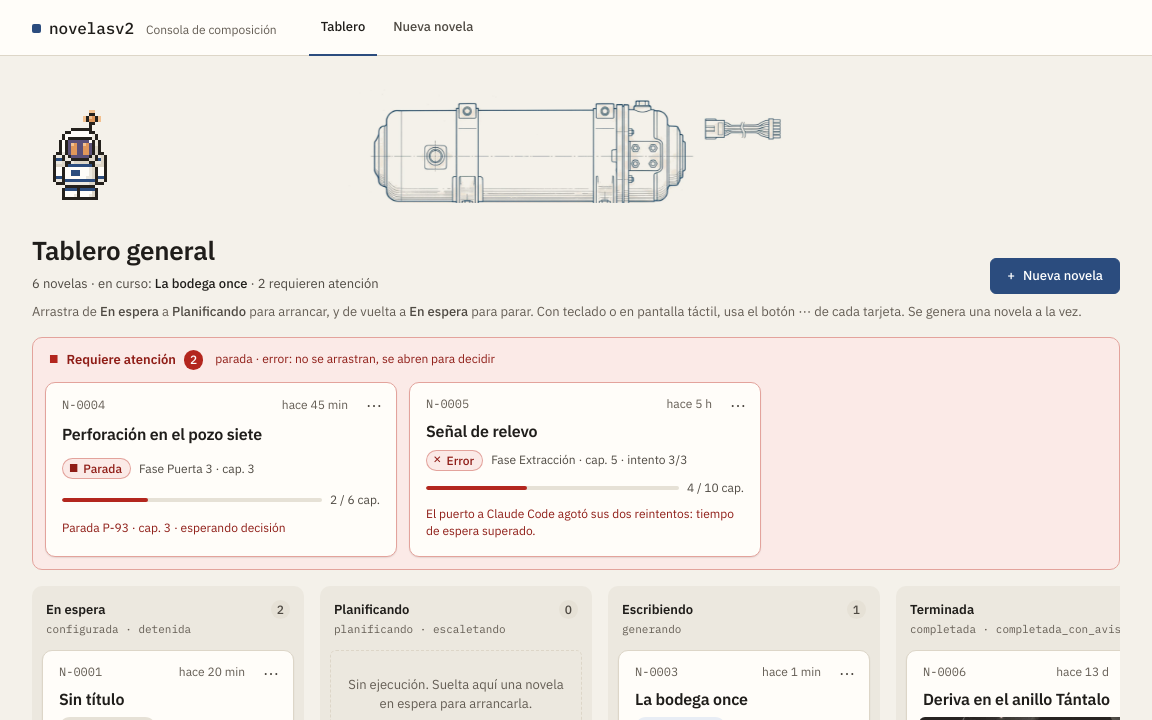
Test: intenciones desde el tablero (RF-FE-TAB-03, RF-FE-DAT-05) › una tarjeta de «Requiere atención» solo ofrece abrirla
Click the button named "Acciones: Señal de relevo". click: (738, 405)
box: 724,391 -> 752,419
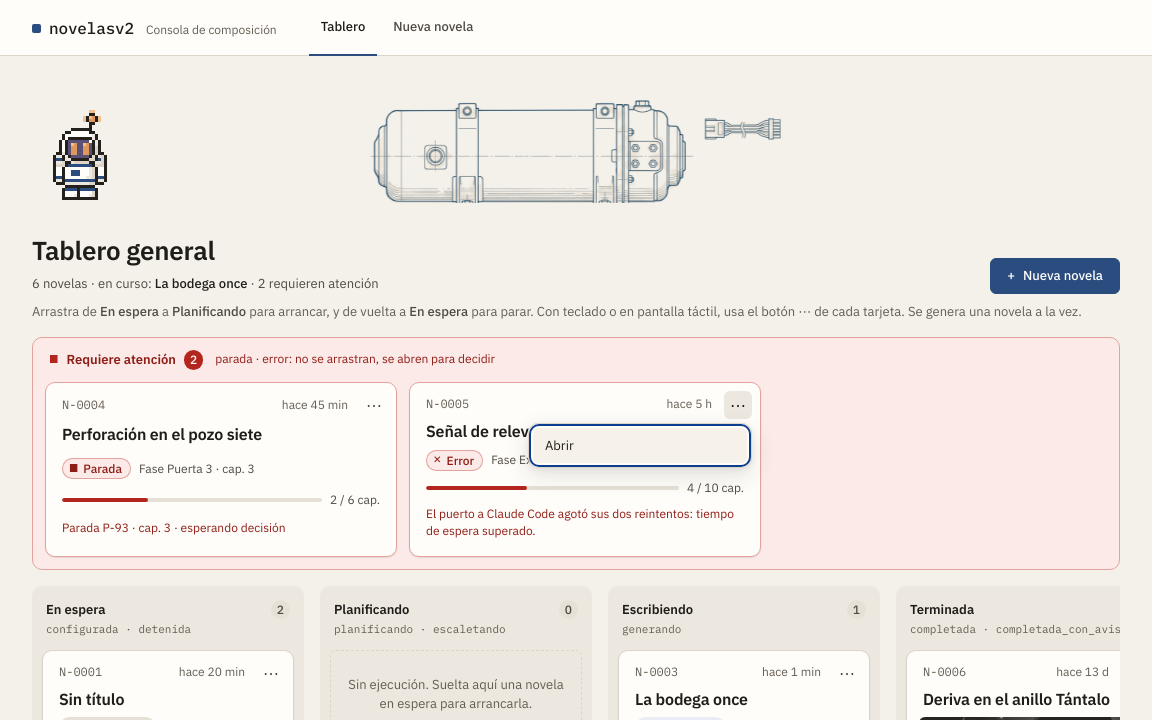
Now the menu items read "Abrir", in this order, box 533,428 -> 747,463
